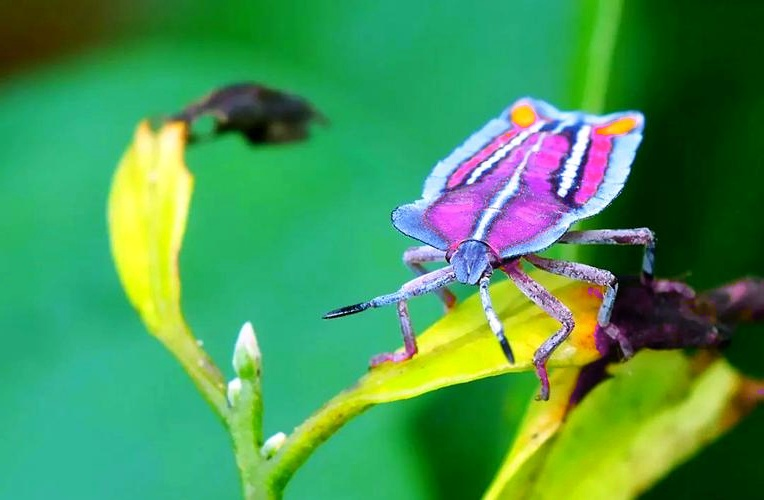Stink_Bug: (381, 110, 643, 353)
